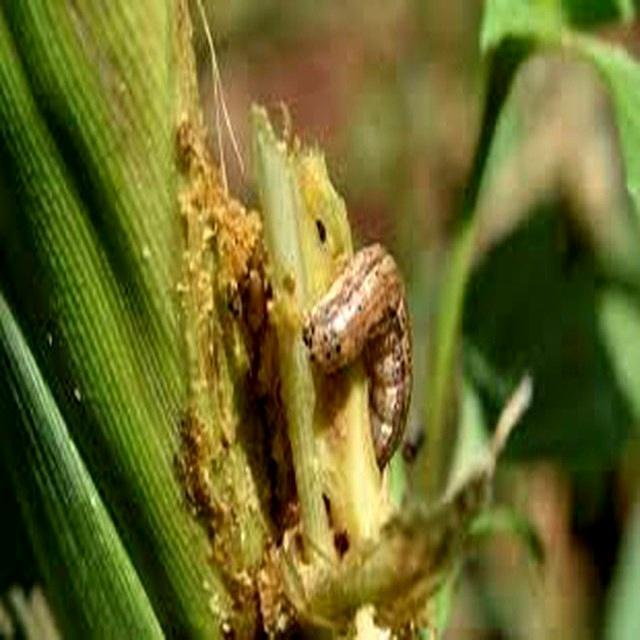gusano_cogollero: (299, 242, 414, 464)
